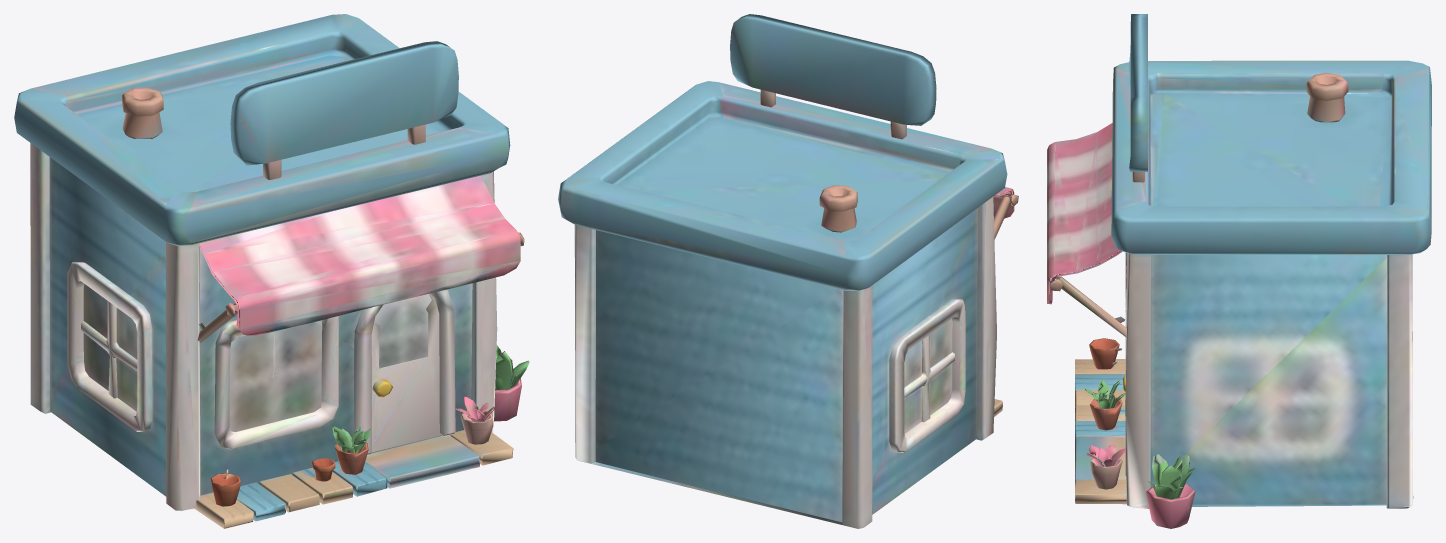
The model's file is shop_s.glb.
3 views of the same model, side by side, from view 1: azimuth 30°, elevation 25°; view 2: azimuth 150°, elevation 25°; view 3: azimuth 270°, elevation 25° (orthographic). The views are drawn at different scales.
Size of the model in its own units: 0.9472 by 0.9536 by 0.8619.
1 material, 1 textured.
